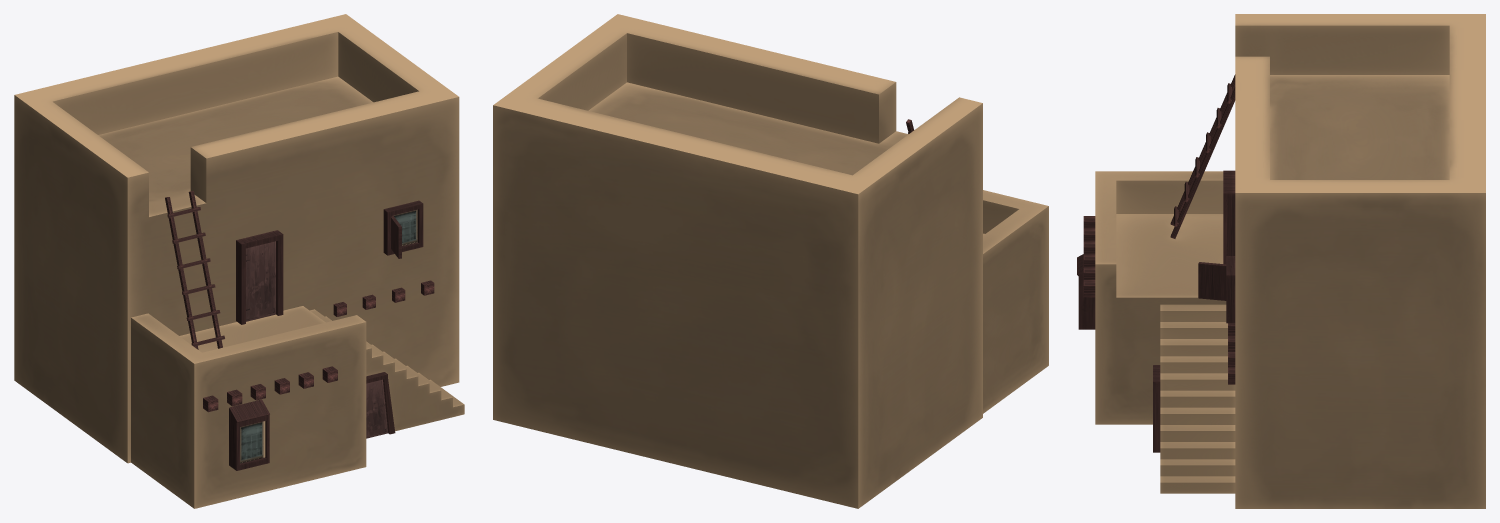
The model's file is desert_house.fbx.
3 renders of one model, left to right at view 1: azimuth 30°, elevation 25°; view 2: azimuth 150°, elevation 25°; view 3: azimuth 270°, elevation 25°, orthographic. The views are drawn at different scales.
Parts seen in each view (by area): view 1: desert_house; view 2: desert_house; view 3: desert_house.
Part boxes in pixels (left/top/right/bottom): desert_house: left=14, top=14, right=464, bottom=508; desert_house: left=493, top=14, right=1048, bottom=508; desert_house: left=1077, top=14, right=1485, bottom=508.
Size of the model in its own units: 15.8 by 13.01 by 15.25.
Materials: 1 (1 with a texture image).
